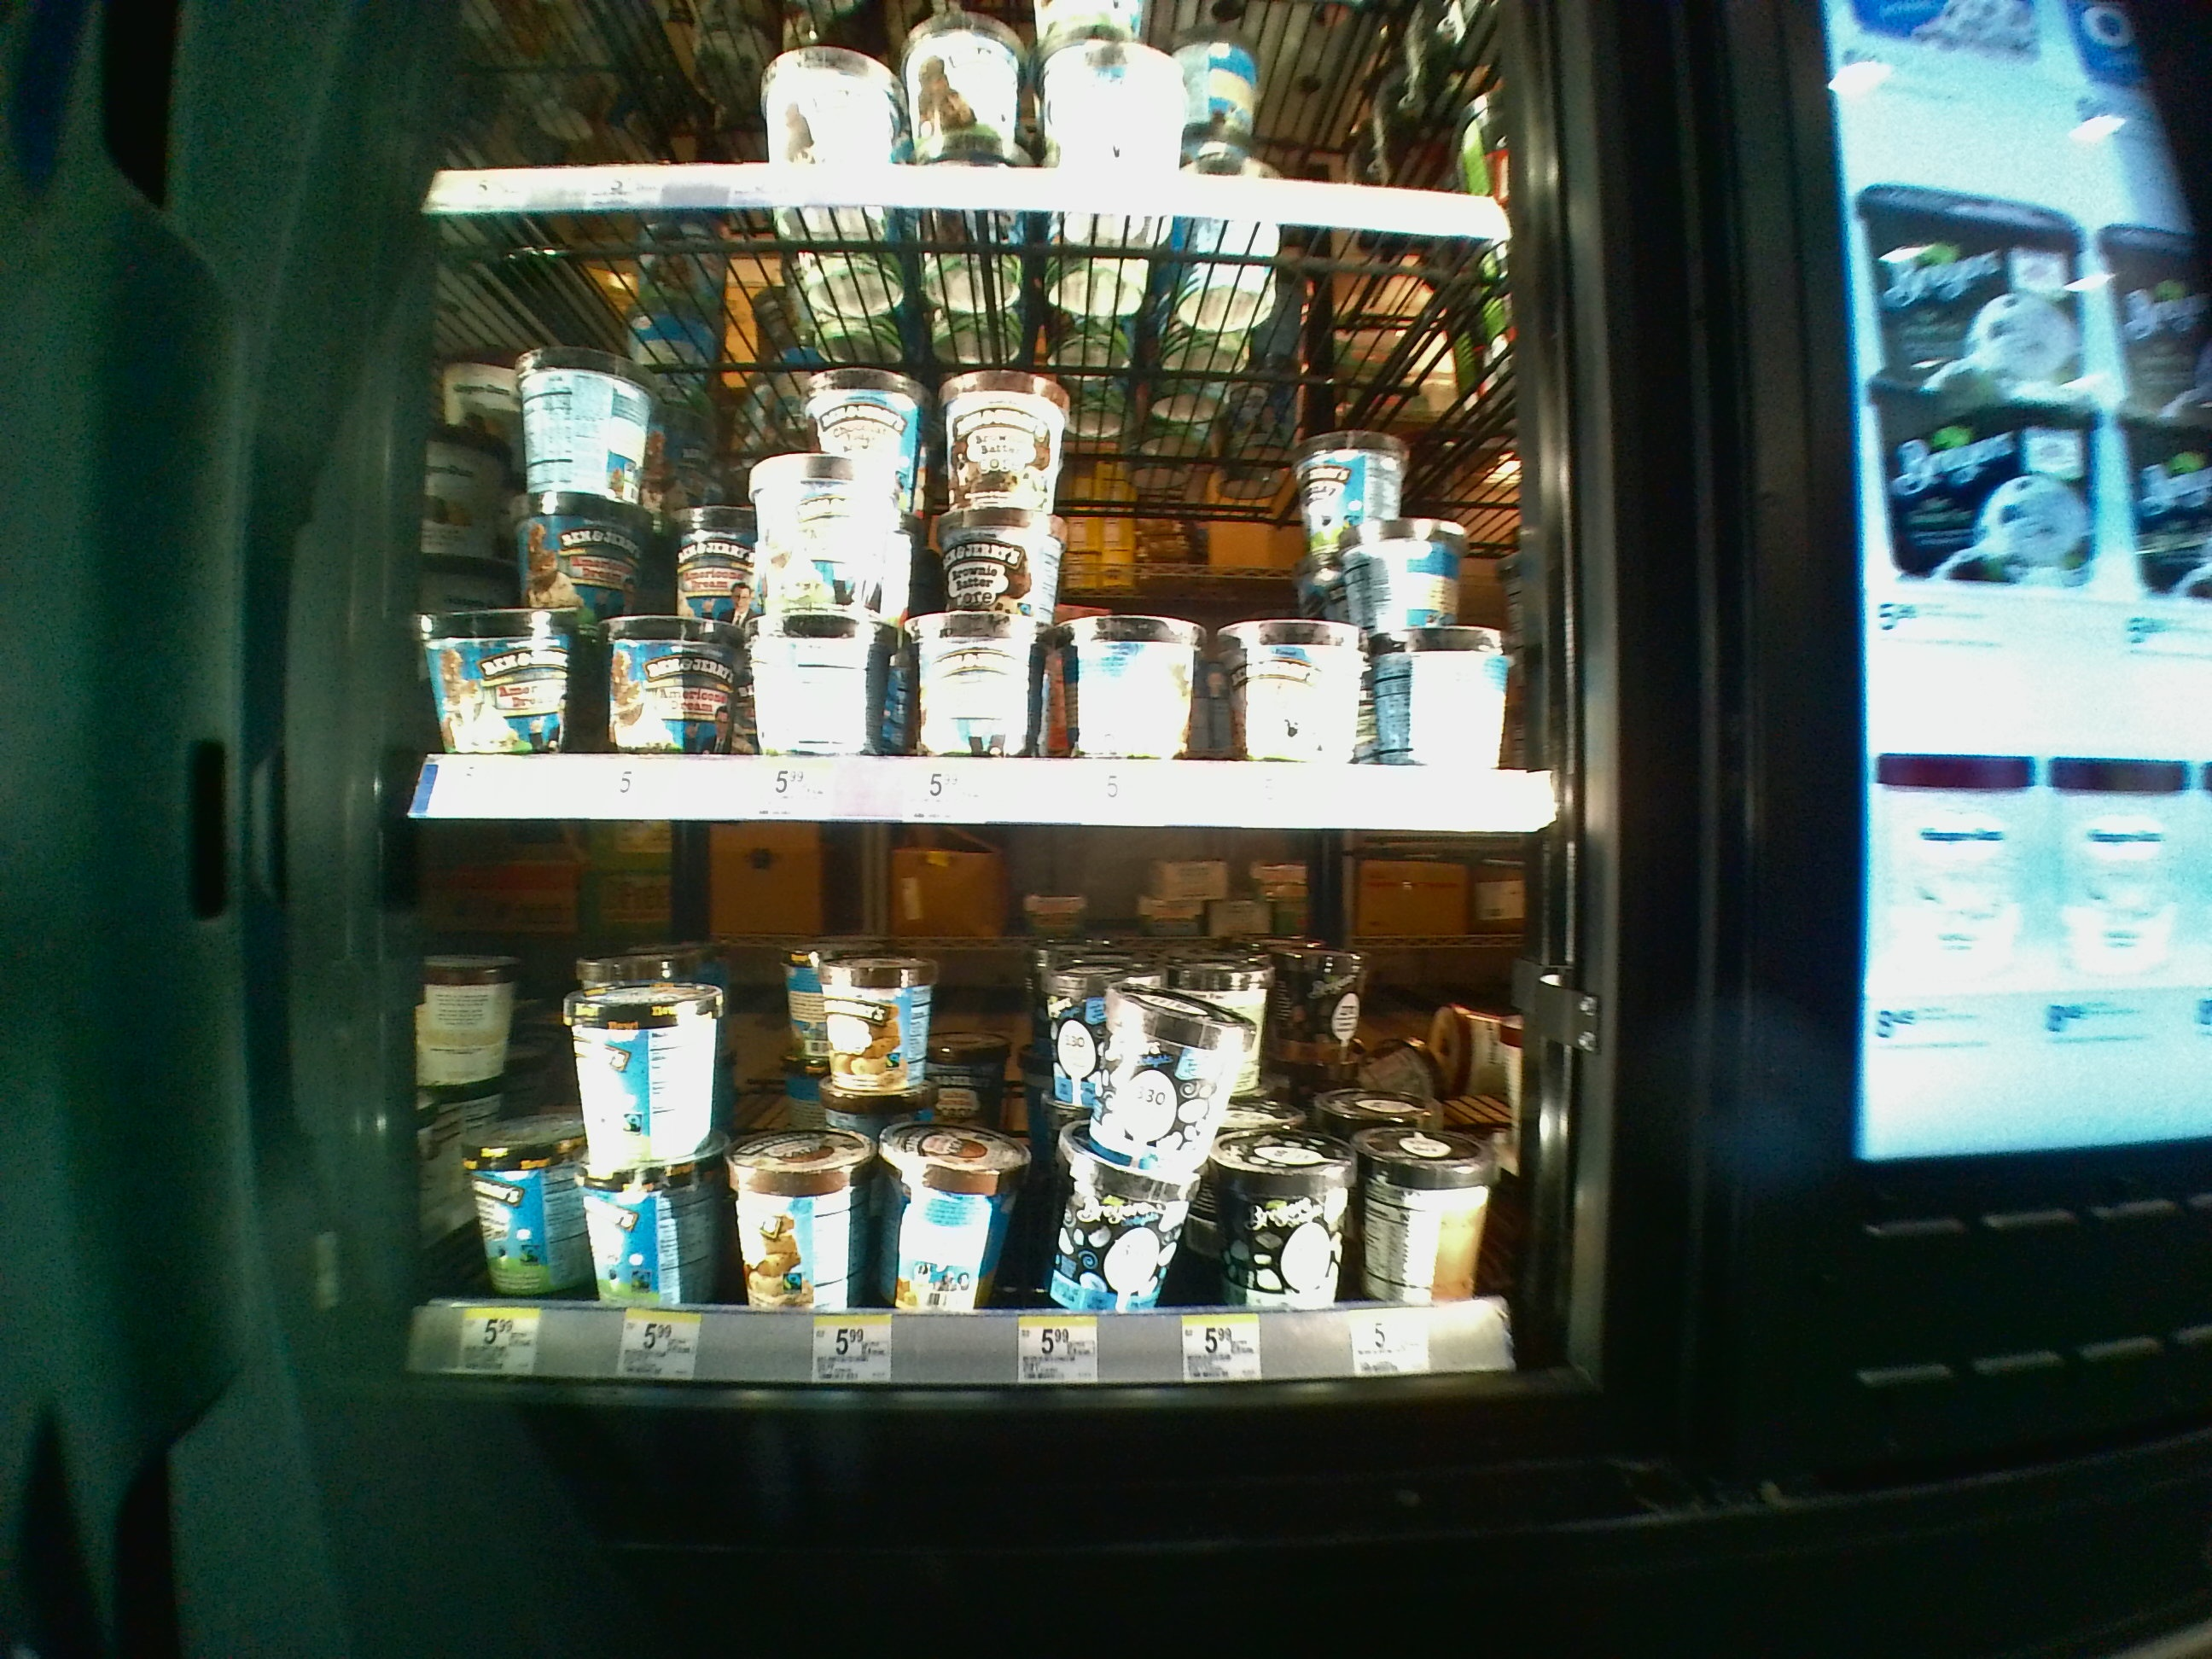shelf: (415, 227, 1533, 824), (406, 843, 1545, 1399)
